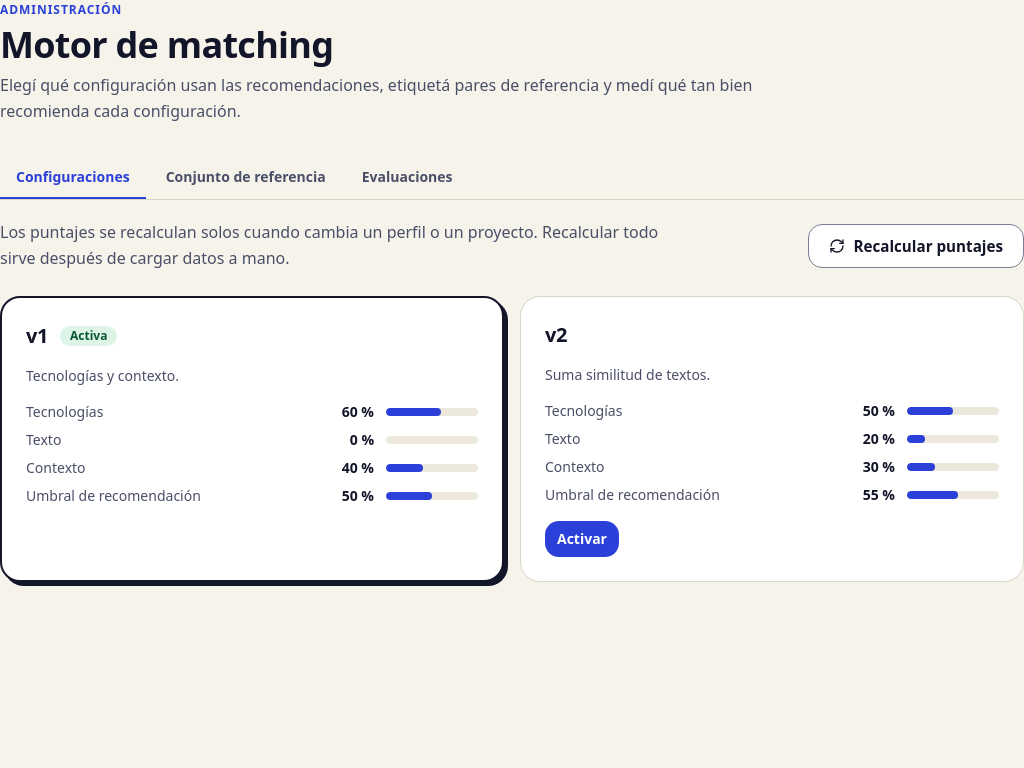
Test: MotorAdminPage › Conjunto de referencia › lista los pares etiquetados con su etiqueta y un resumen
What coordinates should you click on to do the following:
click the tab "Conjunto de referencia"
I would click on:
 (246, 178)
Its box is top-left (150, 156), bottom-right (342, 200).
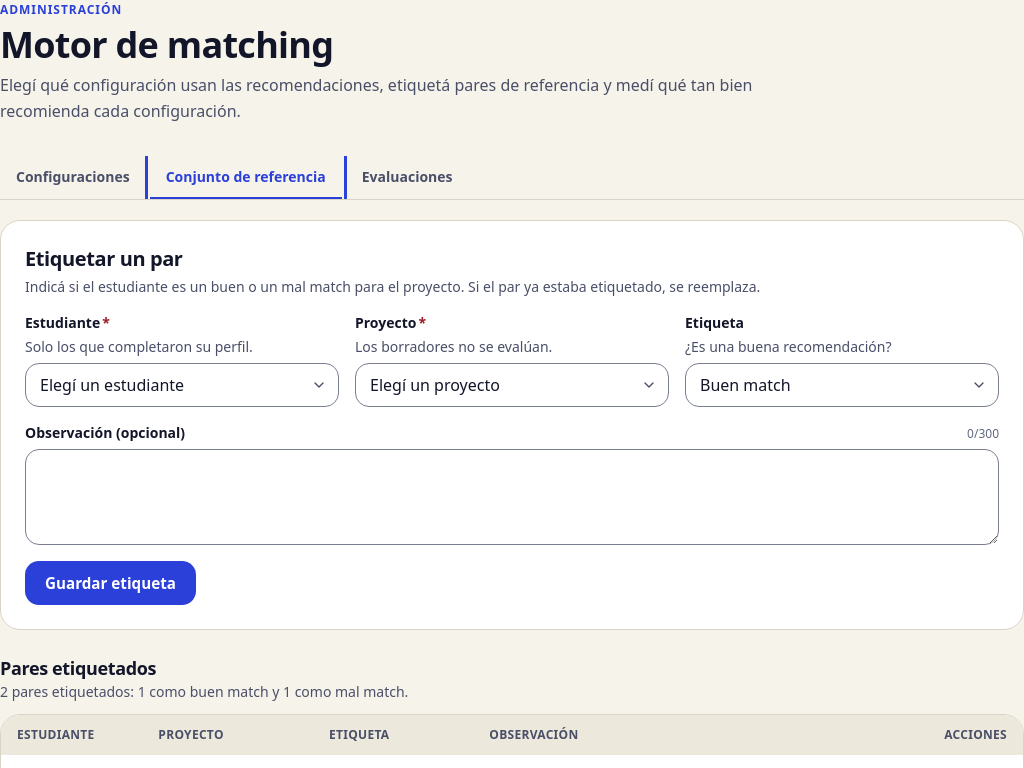
Now the text "2 pares etiquetados: 1 como buen match y 1 como mal match." is shown, box top-left (0, 682), bottom-right (408, 701)
